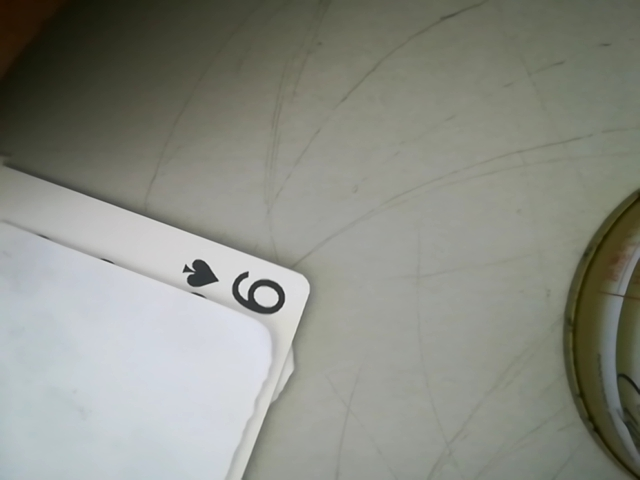ht 9: (171, 249, 303, 319)
